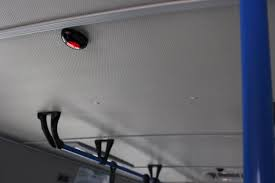bell: (61, 27, 92, 51)
